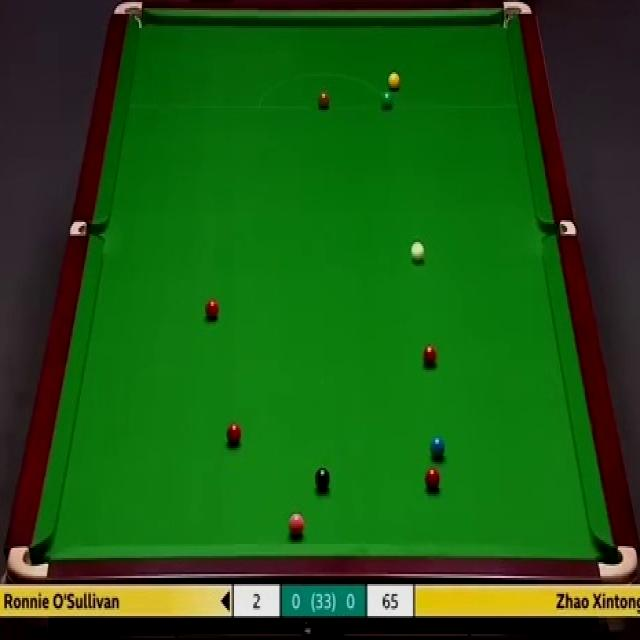pocket: (597, 542, 640, 584), (7, 545, 49, 580), (112, 0, 145, 34), (499, 0, 530, 32), (539, 218, 576, 240), (67, 220, 105, 235)
